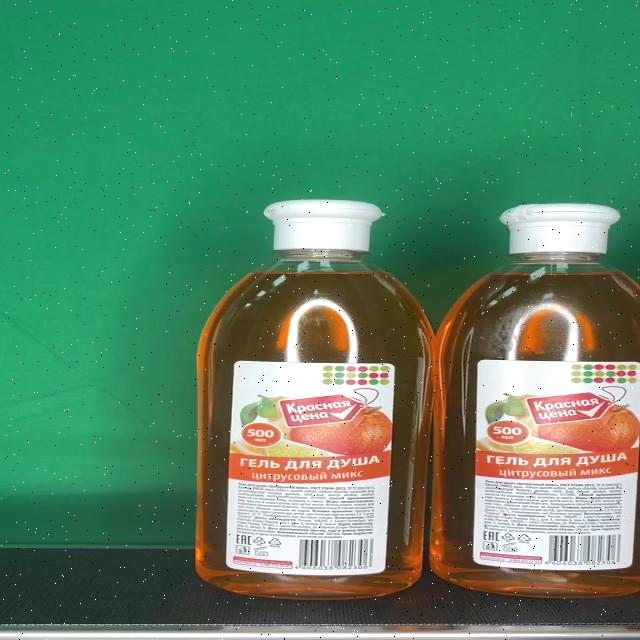Bottle: (198, 201, 436, 601), (428, 201, 640, 598)
Cap: (498, 203, 621, 254), (264, 202, 384, 252)
